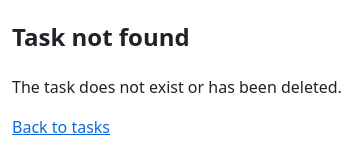
SCRUM-7 TaskNotFound › SCRUM-7-AC-16: a level-1 heading, an explanation and a Back to tasks link to /
This screenshot has width=358, height=160.
expect the heading "Task not found" is shown: met, box [12,20,190,53]
expect the text "The task does not exist or has been deleted." is shown: met, box [12,76,342,98]
Click the link "Back to tasks".
click(61, 127)  # box [12,116,110,138]
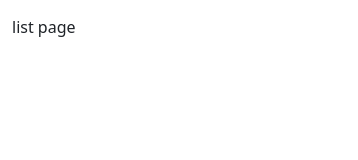
expect the text "list page" is shown: met, box [12,16,76,38]
